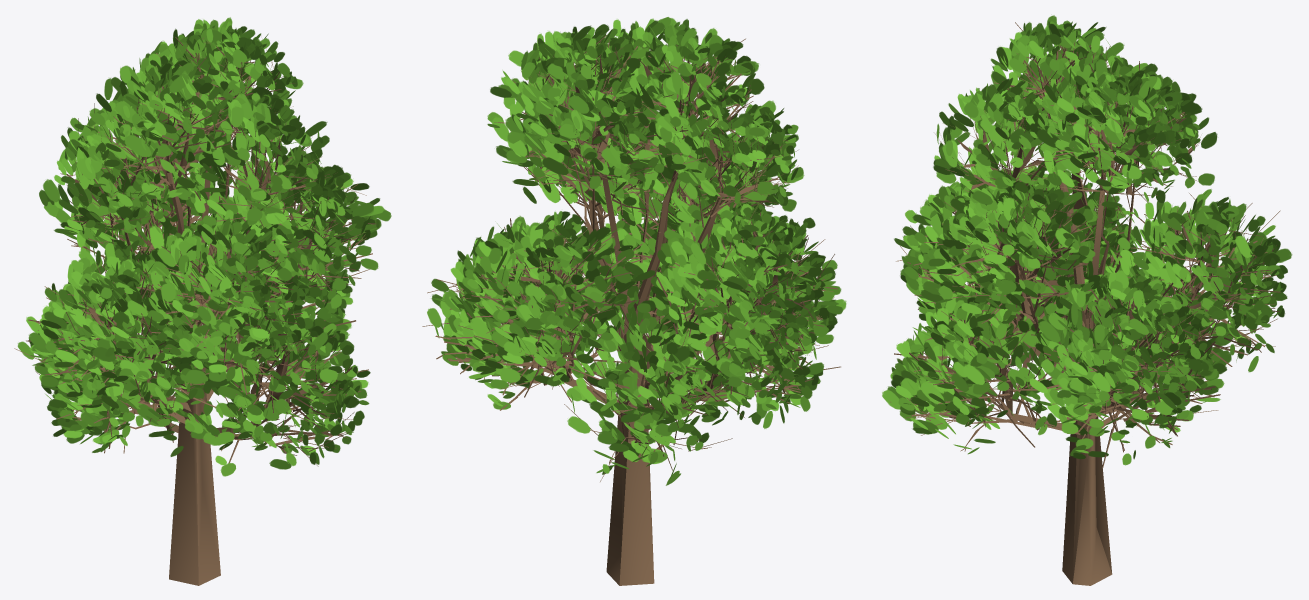
Rendered from stylized_tree.lod2.glb.
3 renders of one model, left to right at view 1: azimuth 30°, elevation 25°; view 2: azimuth 150°, elevation 25°; view 3: azimuth 270°, elevation 25°, orthographic. The views are drawn at different scales.
Visible parts, largest first — view 1: oak 01_leafes_Mat.001_0, oak 01.001_trunk_Mat.001_0; view 2: oak 01_leafes_Mat.001_0, oak 01.001_trunk_Mat.001_0; view 3: oak 01_leafes_Mat.001_0, oak 01.001_trunk_Mat.001_0.
Boxes of the visible parts, box(x1,y1,x2,y2) form: oak 01_leafes_Mat.001_0: box(17, 17, 391, 476); oak 01.001_trunk_Mat.001_0: box(14, 37, 376, 585); oak 01_leafes_Mat.001_0: box(427, 17, 846, 485); oak 01.001_trunk_Mat.001_0: box(422, 35, 840, 585); oak 01_leafes_Mat.001_0: box(882, 15, 1292, 465); oak 01.001_trunk_Mat.001_0: box(890, 22, 1280, 585).
Size of the model in its own units: 0.3743 by 0.5673 by 0.3995.
2 materials, 1 textured.
